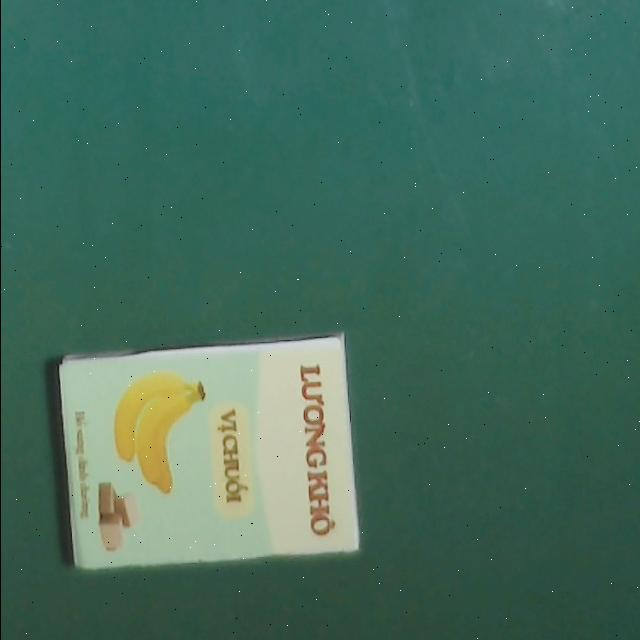chuoi: (56, 334, 359, 575)
